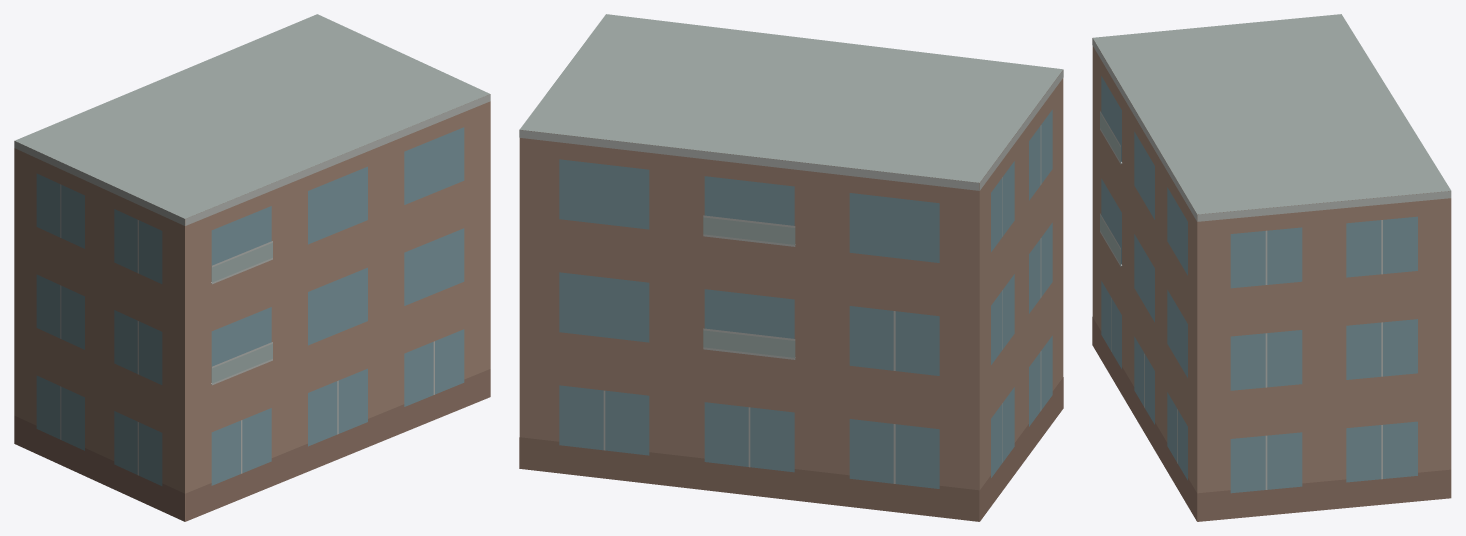
Rendered from survey-upis-32693621.glb.
3 renders of one model, left to right at view 1: azimuth 30°, elevation 25°; view 2: azimuth 150°, elevation 25°; view 3: azimuth 270°, elevation 25°, orthographic. The views are drawn at different scales.
Parts seen in each view (by area): view 1: survey-upis-32693621.tmp; view 2: survey-upis-32693621.tmp; view 3: survey-upis-32693621.tmp.
Boxes of the visible parts, x1,y1,x2,y2 form: survey-upis-32693621.tmp: [14, 14, 490, 521]; survey-upis-32693621.tmp: [519, 14, 1063, 521]; survey-upis-32693621.tmp: [1092, 14, 1451, 521].
Bounding box in the file's own units: 14.28 × 10.2 × 10.8.
